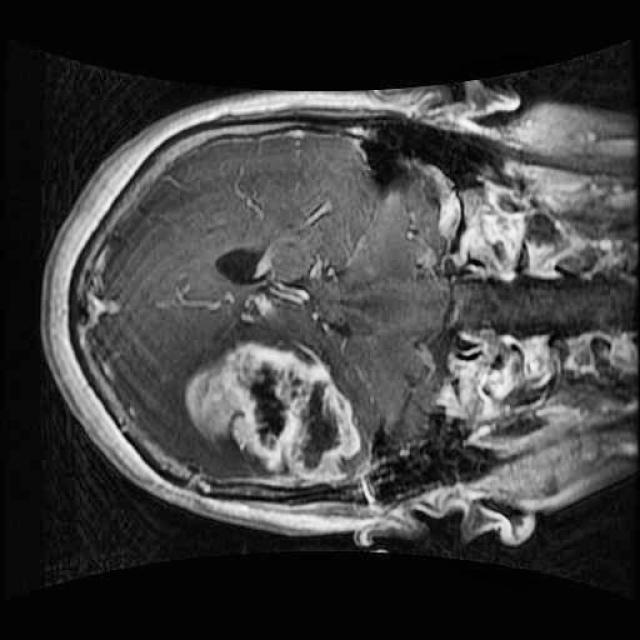Non-Tumor: (176, 325, 380, 504)
